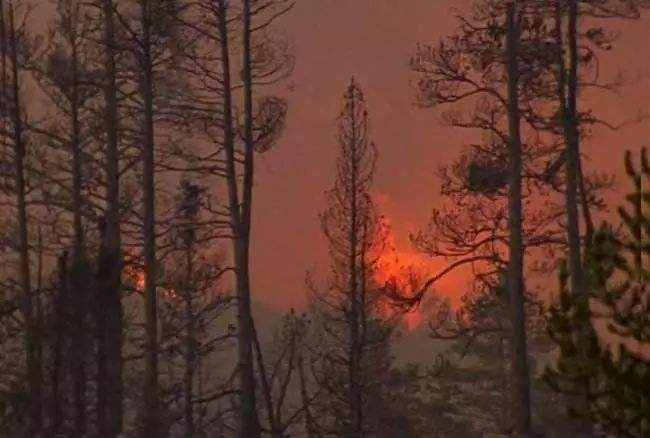fire: (362, 196, 478, 326)
